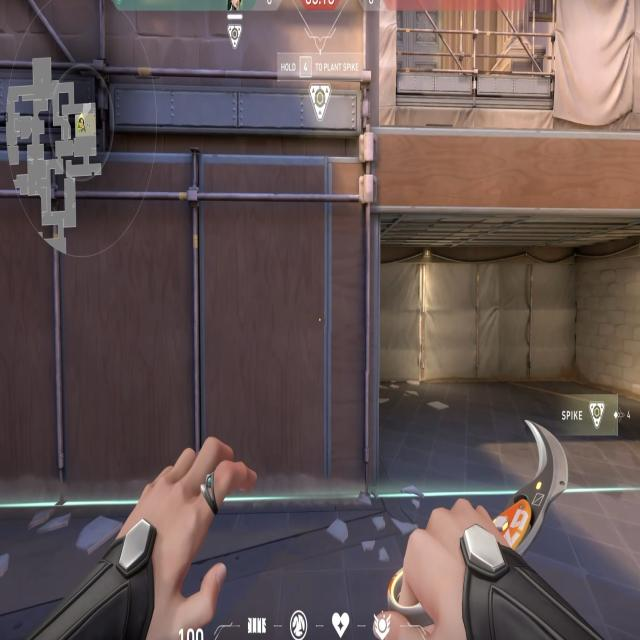A_Hell: (360, 109, 640, 509)
